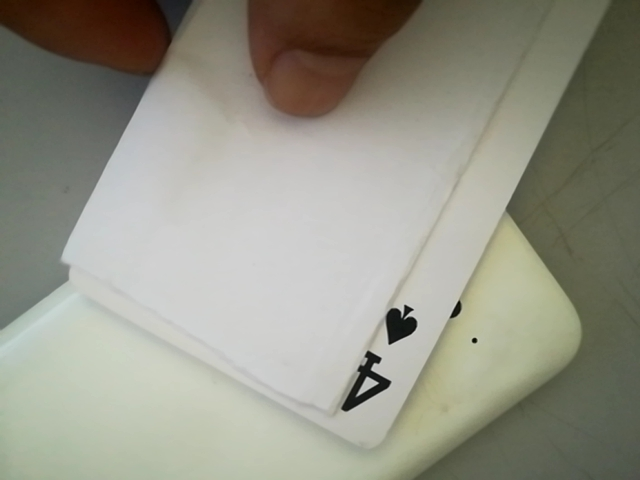ht 4: (324, 289, 435, 434)
